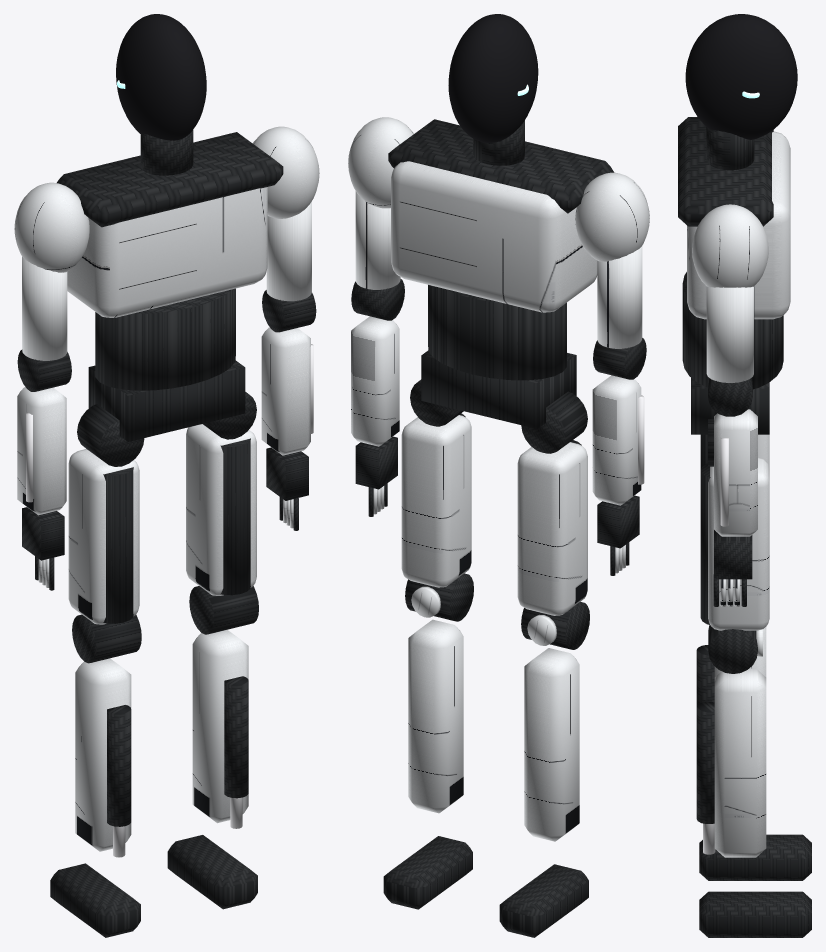
Rendered from tesla_optimus_pbr.glb.
3 views of the same model, side by side, from view 1: azimuth 30°, elevation 25°; view 2: azimuth 150°, elevation 25°; view 3: azimuth 270°, elevation 25° (orthographic).
Parts seen in each view (by area): view 1: Cube, Cylinder.001, Cube.001, Sphere, Cube.010, Cube.006, Cube.005, Cube.011, Cube.002, Cube.003, Cube.008, Sphere.002 (+18 smaller); view 2: Cube, Cube.010, Cube.005, Cylinder.001, Cube.006, Cube.011, Sphere, Cube.001, Cube.002, Cube.003, Cube.008, Sphere.002 (+16 smaller); view 3: Sphere, Cube.006, Cube.001, Cube, Sphere.001, Cube.007, Cube.005, Cube.003, Cylinder.002, Cube.012, Cylinder.001, Cylinder.014 (+11 smaller).
Boxes of the visible parts, left/top/right/bottom form: Cube: left=67, top=187, right=267, bottom=317; Cylinder.001: left=95, top=288, right=235, bottom=390; Cube.001: left=57, top=132, right=283, bottom=227; Sphere: left=116, top=14, right=206, bottom=140; Cube.010: left=68, top=449, right=139, bottom=624; Cube.006: left=192, top=629, right=248, bottom=823; Cube.005: left=186, top=424, right=256, bottom=595; Cube.011: left=75, top=658, right=131, bottom=851; Cube.002: left=88, top=360, right=245, bottom=441; Cube.003: left=261, top=327, right=310, bottom=455; Cube.008: left=17, top=387, right=66, bottom=515; Sphere.002: left=14, top=182, right=89, bottom=272; Cube: left=391, top=161, right=597, bottom=312; Cube.010: left=517, top=442, right=587, bottom=615; Cube.005: left=401, top=415, right=471, bottom=587; Cylinder.001: left=428, top=285, right=566, bottom=380; Cube.006: left=408, top=619, right=463, bottom=813; Cube.011: left=524, top=648, right=579, bottom=841; Sphere: left=448, top=14, right=538, bottom=142; Cube.001: left=388, top=119, right=614, bottom=213; Cube.002: left=421, top=350, right=576, bottom=428; Cube.003: left=351, top=316, right=399, bottom=446; Cube.008: left=592, top=375, right=641, bottom=505; Sphere.002: left=575, top=172, right=649, bottom=261; Sphere: left=685, top=14, right=797, bottom=139; Cube.006: left=714, top=668, right=766, bottom=857; Cube.001: left=678, top=117, right=773, bottom=226; Cube: left=687, top=131, right=790, bottom=319; Sphere.001: left=692, top=204, right=768, bottom=287; Cube.007: left=699, top=891, right=811, bottom=937; Cube.005: left=708, top=457, right=769, bottom=630; Cube.003: left=714, top=409, right=757, bottom=536; Cylinder.002: left=706, top=286, right=754, bottom=382; Cube.012: left=699, top=834, right=811, bottom=880; Cylinder.001: left=682, top=272, right=783, bottom=389; Cylinder.014: left=696, top=702, right=714, bottom=823.
Size of the model in its own units: 0.6025 by 1.74 by 0.238.
5 materials, 2 textured.
